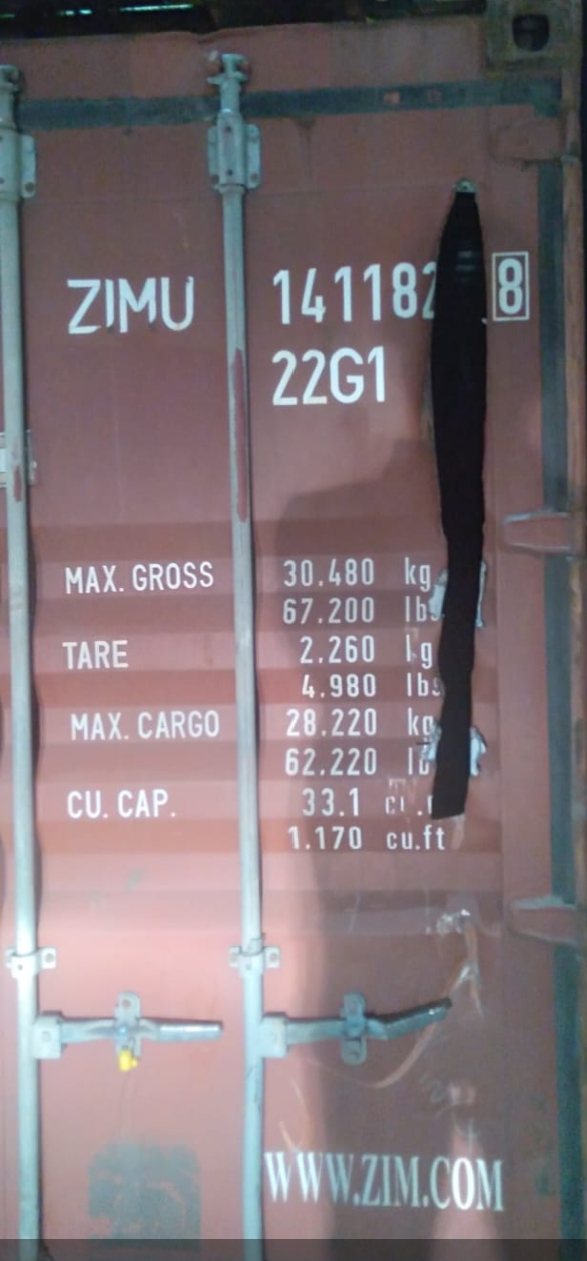cut: (383, 165, 516, 889)
